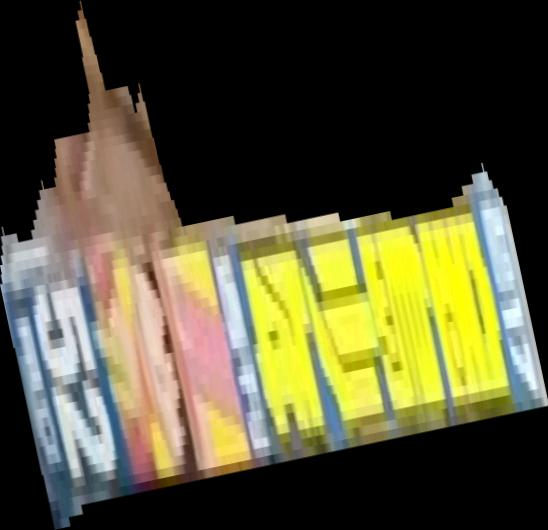flat: (1, 1, 548, 530)
